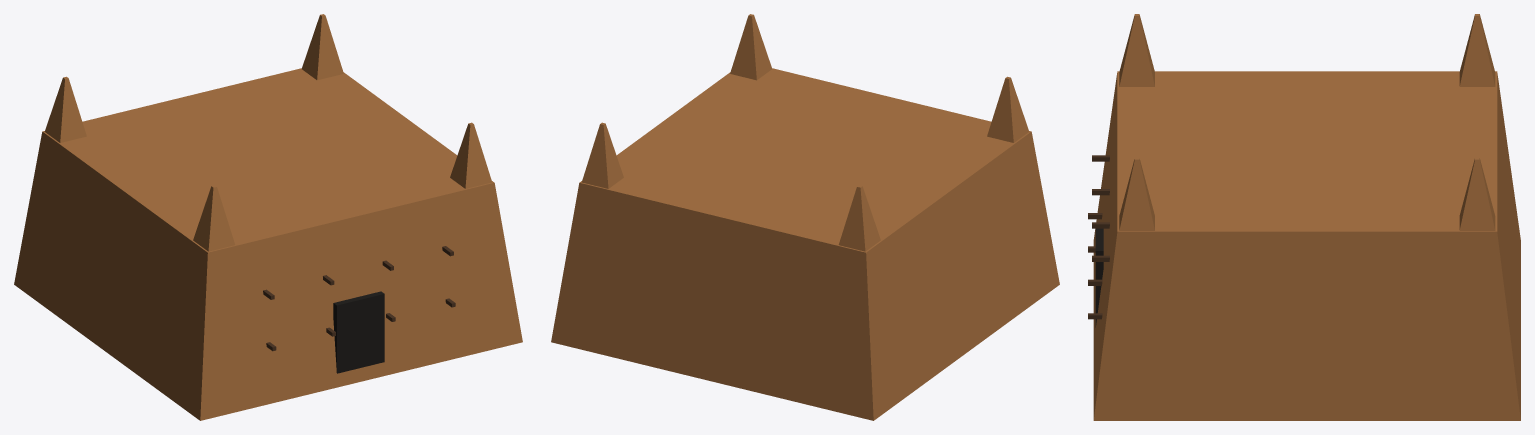
File: mint.glb
3 views of the same model, side by side, from view 1: azimuth 30°, elevation 25°; view 2: azimuth 150°, elevation 25°; view 3: azimuth 270°, elevation 25° (orthographic). The views are drawn at different scales.
Parts seen in each view (by area): view 1: Mint; view 2: Mint; view 3: Mint.
Part boxes in pixels (left/top/right/bottom): Mint: left=14, top=14, right=522, bottom=420; Mint: left=551, top=14, right=1059, bottom=420; Mint: left=1088, top=14, right=1520, bottom=420.
Bounding box in the file's own units: 10.8 × 6.8 × 10.94.
